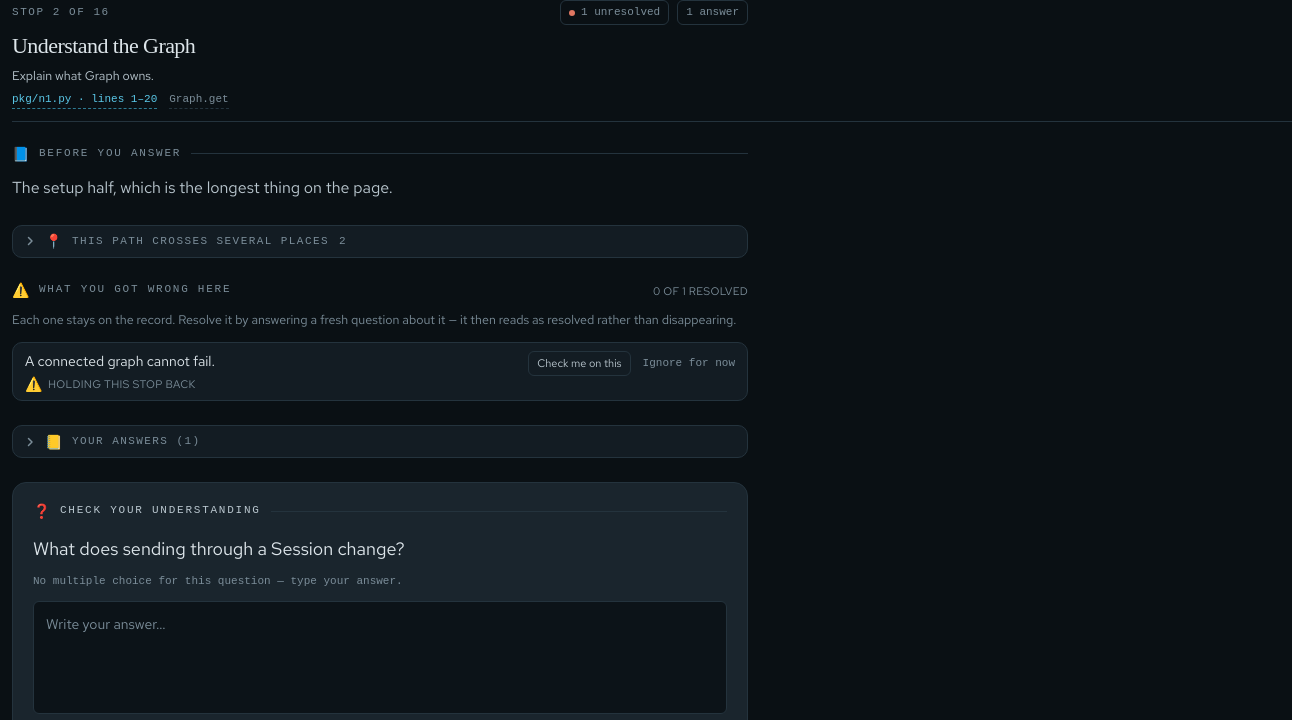
Test: FEEDBACK: the verdict, and everything it superseded stepped back › the setup prose collapses into a disclosure
Check: the text "What does sending through a Session change?" is shown, box x1=33 y1=537 x2=405 y2=560
In the text box with placeholder "Write your answer…": point(380, 658) x1=33 y1=601 x2=727 y2=714, type "A wrong answer."
(page scrolled)
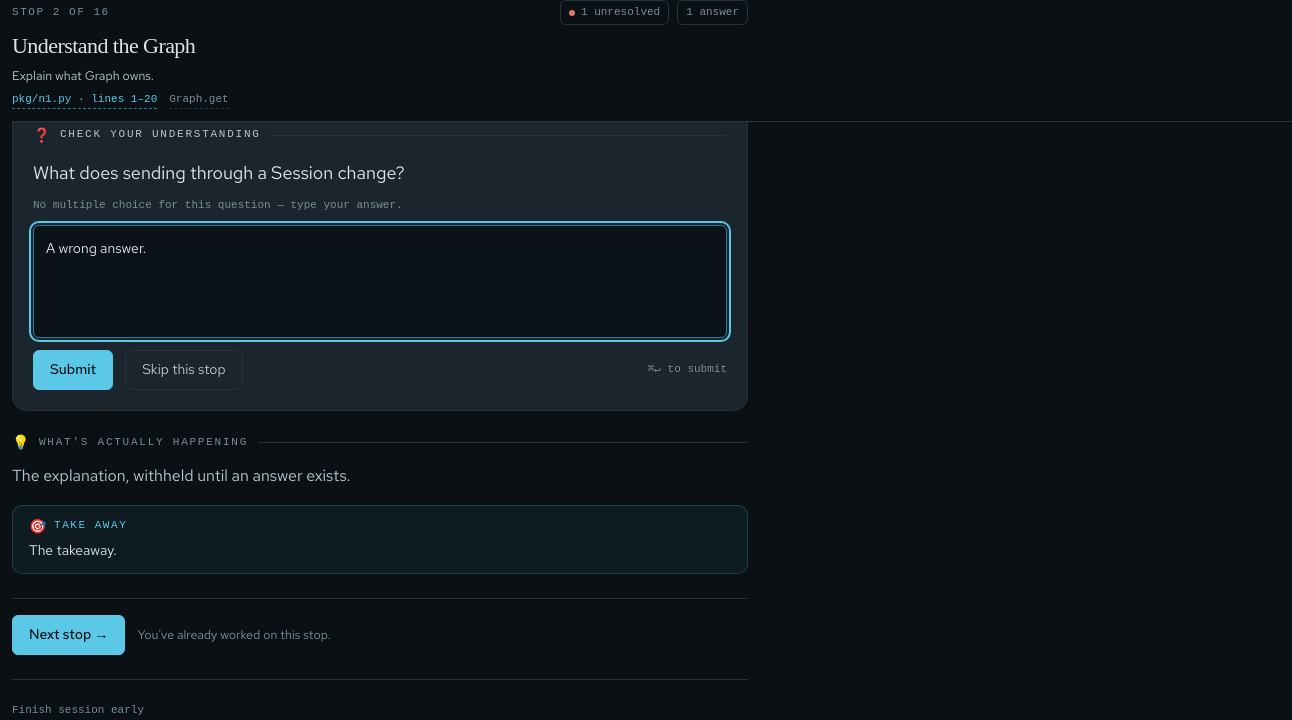
Click the button "Submit": point(73, 370) x1=33 y1=350 x2=113 y2=390
(page scrolled)
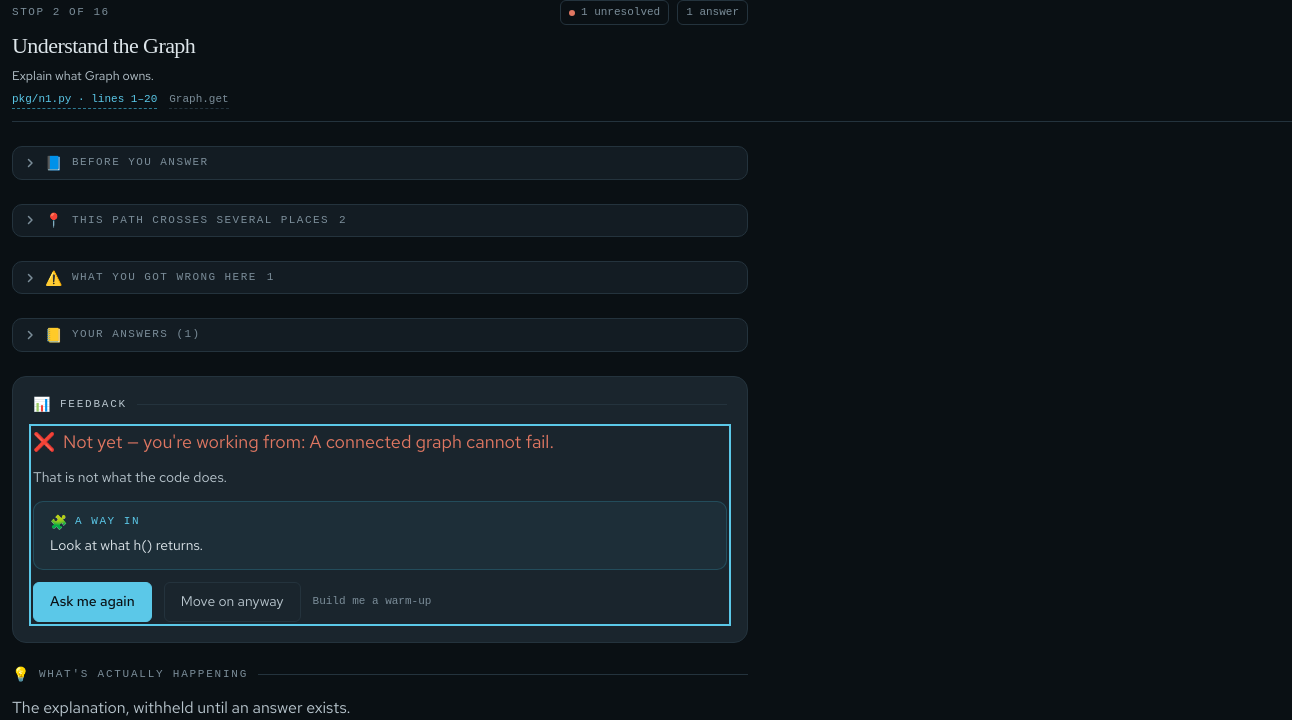
Check: the element showing "📘 Before you answer" is shown, box x1=12 y1=146 x2=748 y2=180
Check: the text "That is not what the code does." is shown, box x1=33 y1=468 x2=227 y2=486
